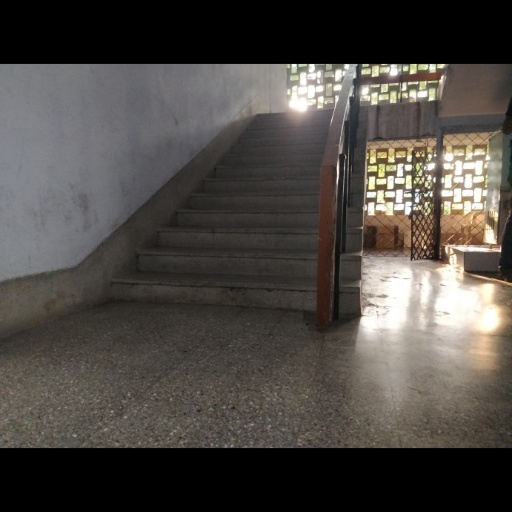Stairs: (112, 110, 332, 311)
